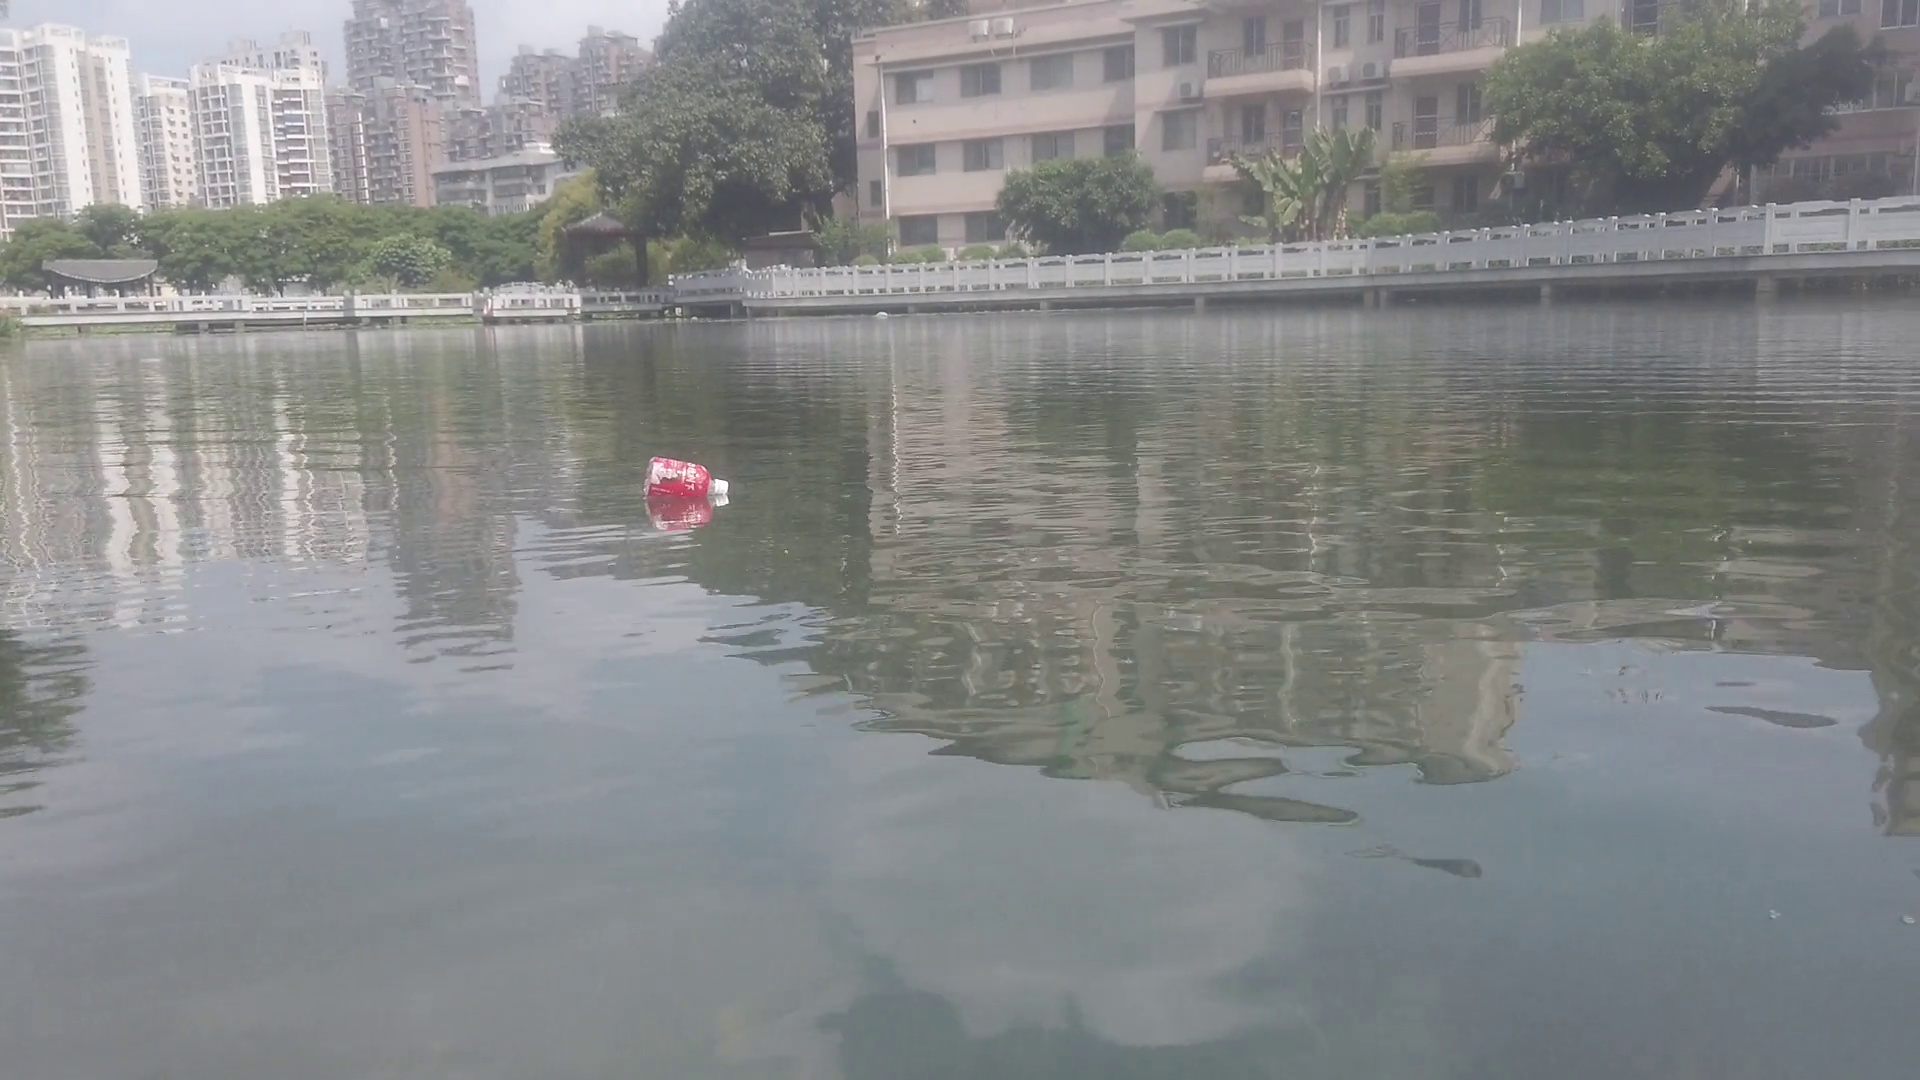bottle: (640, 458, 728, 493)
plastic: (870, 309, 887, 316)
